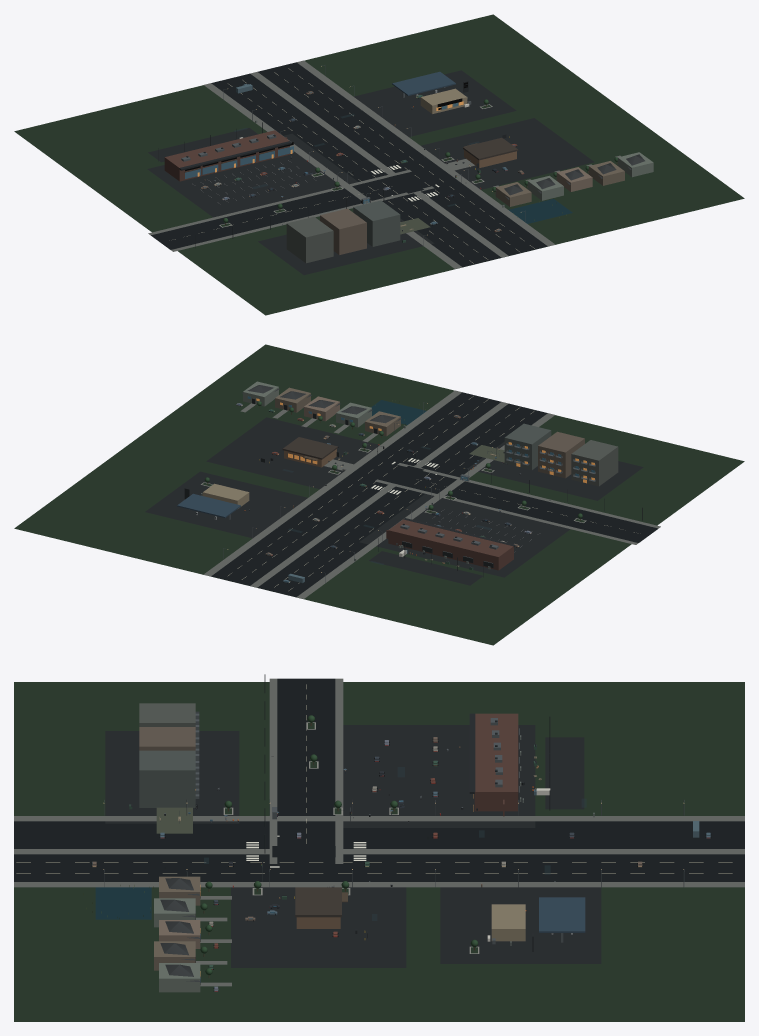
File: warden-lived-in-street-v2.glb
The picture shows the model from 3 angles, top to bottom: view 1: azimuth 30°, elevation 25°; view 2: azimuth 150°, elevation 25°; view 3: azimuth 270°, elevation 25°; orthographic projection. The views are drawn at different scales.
Size of the model in its own units: 333 by 17.35 by 300.
485 materials, 29 textured.
